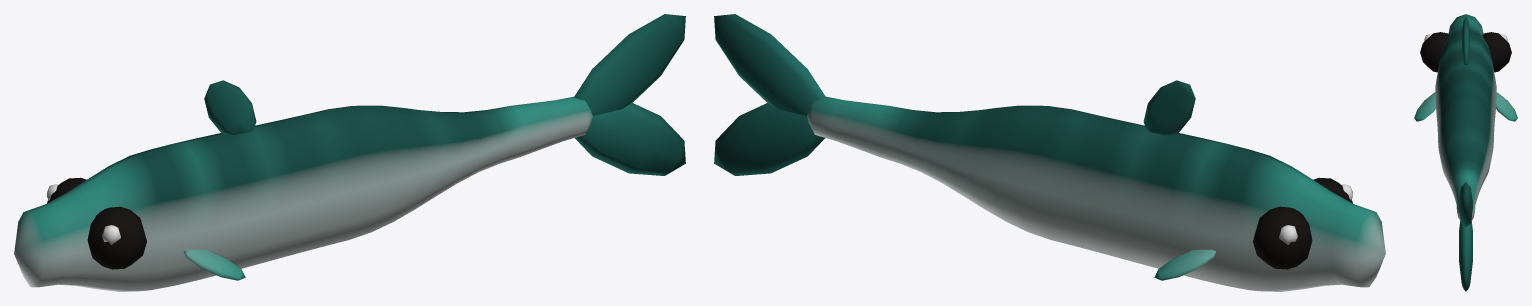
Rendered from Mackerel.glb.
3 views of the same model, side by side, from view 1: azimuth 30°, elevation 25°; view 2: azimuth 150°, elevation 25°; view 3: azimuth 270°, elevation 25° (orthographic). The views are drawn at different scales.
Visible parts, largest first — view 1: Mackerel; view 2: Mackerel; view 3: Mackerel.
Part boxes in pixels (x1=…): Mackerel: x1=14, y1=14, x2=685, y2=291; Mackerel: x1=714, y1=14, x2=1385, y2=291; Mackerel: x1=1414, y1=14, x2=1517, y2=291.
Size of the model in its own units: 1.16 by 0.3359 by 0.2405.
